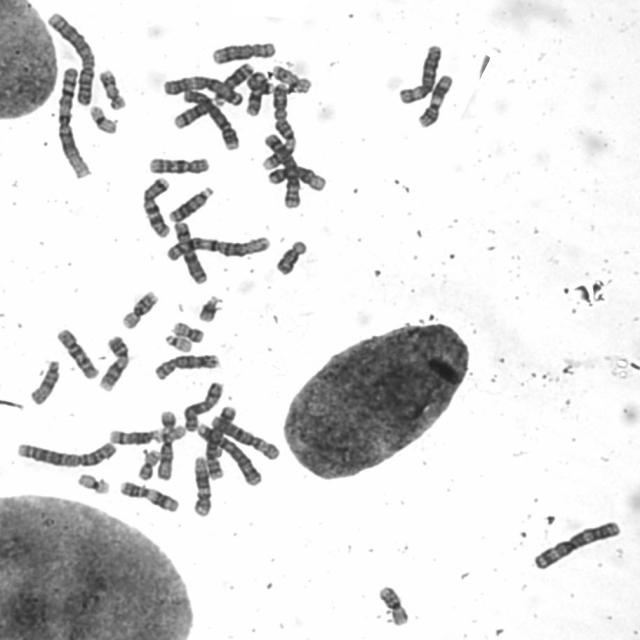A1: (53, 61, 94, 180), (161, 230, 272, 262)
A2: (44, 6, 98, 106), (12, 434, 120, 469)
A3: (528, 514, 624, 572), (159, 70, 245, 106)
B4: (191, 418, 264, 487), (179, 84, 242, 152)
B5: (258, 128, 302, 210), (200, 401, 238, 481)
C10: (52, 323, 100, 381), (145, 152, 211, 176)
C11: (115, 476, 182, 514), (414, 69, 455, 129)
C12: (264, 161, 328, 192), (188, 452, 213, 518)
C6: (208, 410, 281, 460), (394, 40, 444, 104)
C7: (138, 172, 174, 239), (240, 66, 274, 118)
C8: (150, 348, 222, 382), (208, 37, 278, 65)
C9: (94, 330, 132, 392), (261, 118, 299, 172)
D13: (164, 181, 215, 223), (212, 58, 256, 106)
D14: (104, 421, 187, 446), (104, 423, 165, 446)
D15: (26, 355, 62, 406), (154, 406, 177, 482)
E16: (118, 286, 161, 330), (374, 581, 411, 627)
E17: (266, 59, 314, 94), (94, 64, 128, 110)
E18: (272, 236, 308, 276), (272, 81, 289, 121)
F19: (85, 101, 119, 135), (73, 468, 112, 496)
F20: (134, 445, 162, 481), (168, 317, 205, 344)
G21: (194, 290, 224, 323), (155, 407, 178, 445)
G22: (150, 421, 187, 442), (160, 330, 193, 353)
X: (169, 217, 210, 285), (180, 377, 226, 432)
Y: (272, 236, 308, 276)
